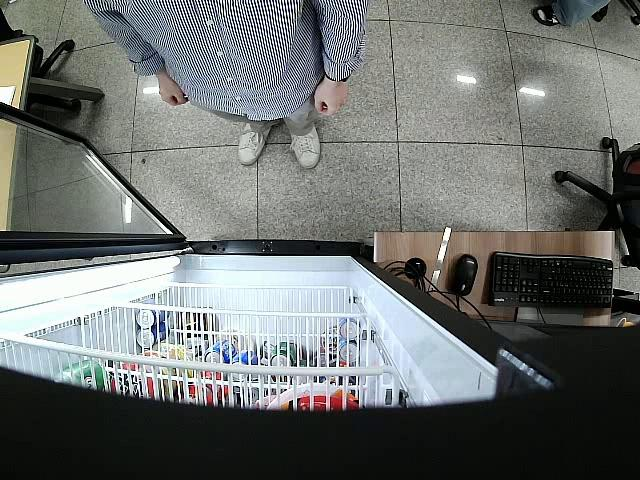00_hand: (314, 83, 348, 116), (155, 78, 188, 106)
